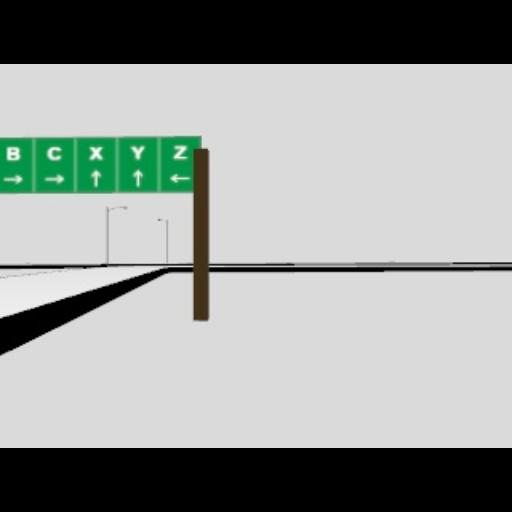Right: (43, 172, 65, 184), (4, 174, 24, 184)
